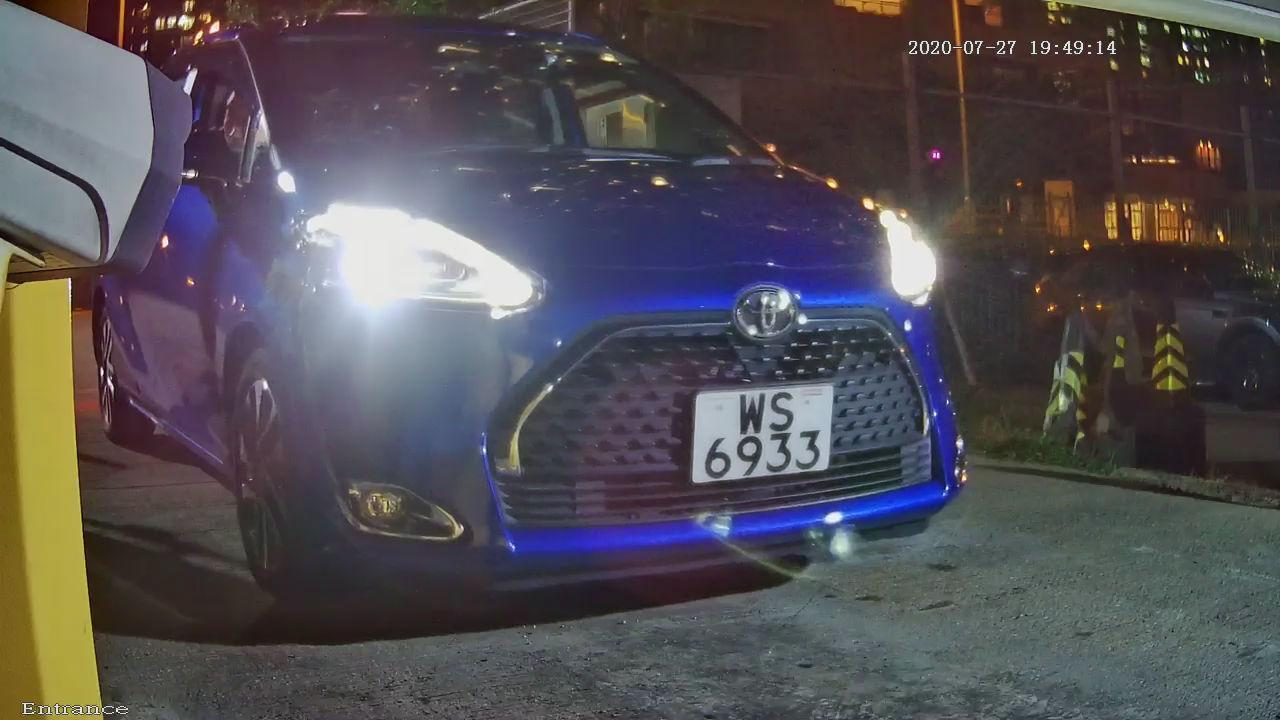privatecar: (86, 10, 1035, 669)
